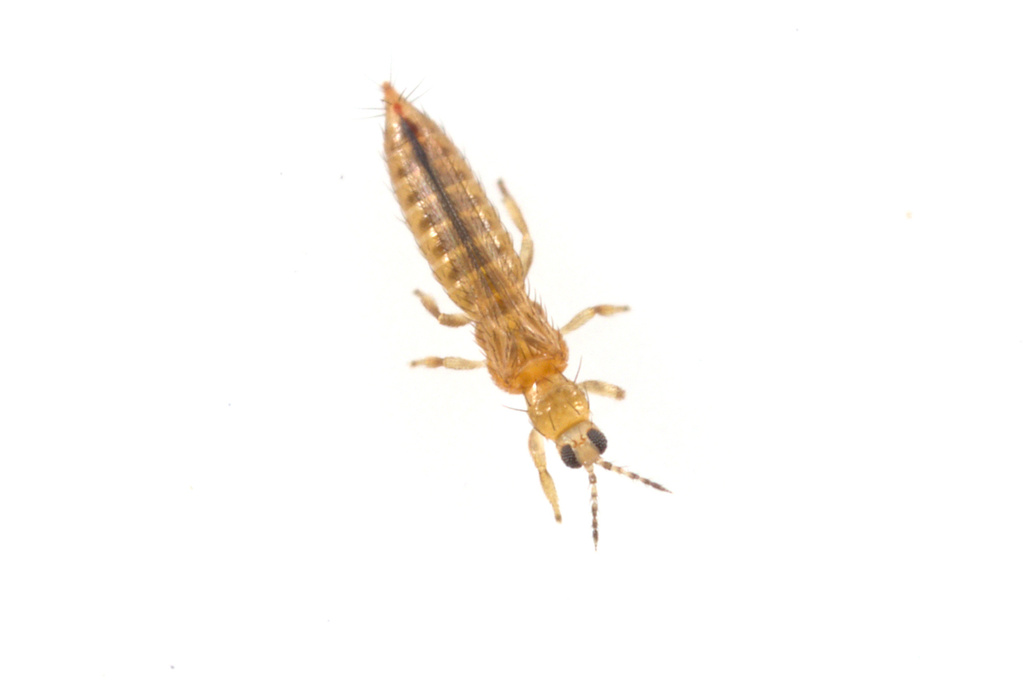tiny_pests: (292, 21, 762, 615)
